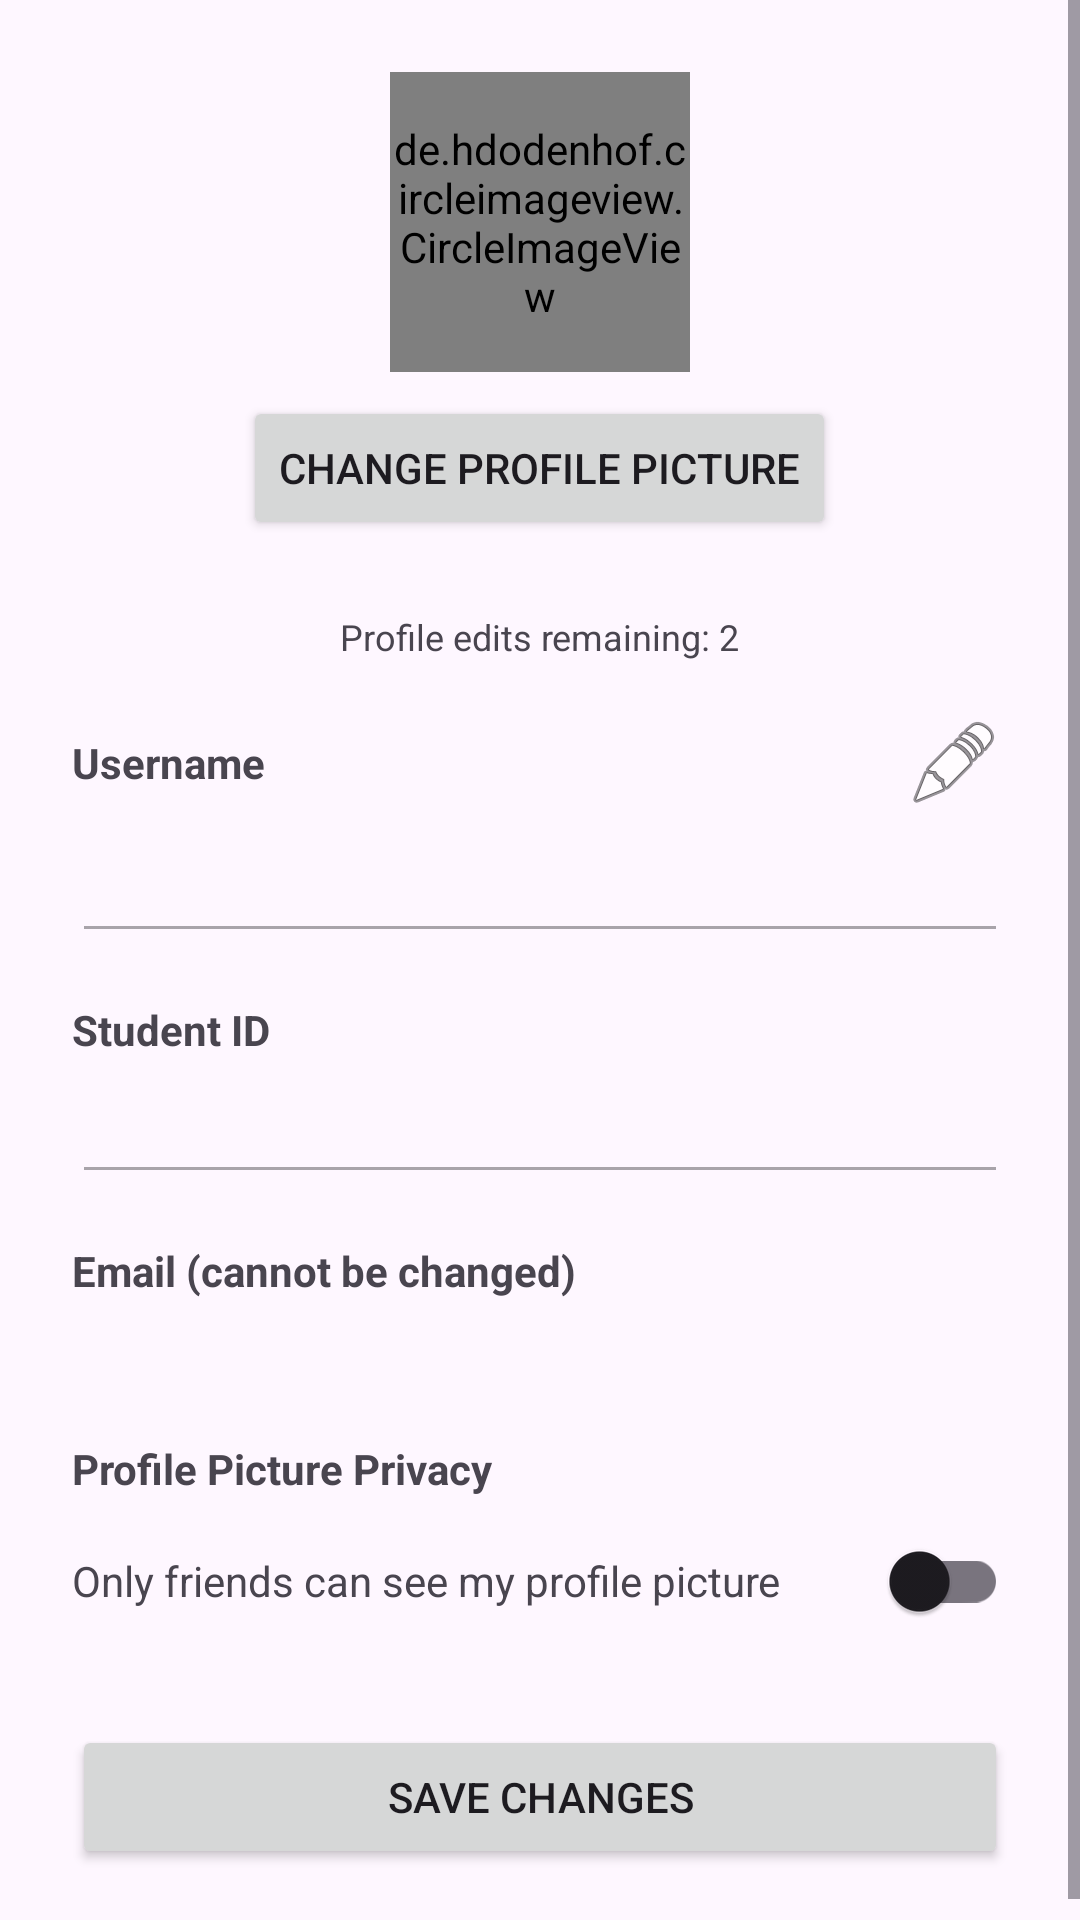

Point at icon controls on the screen. Image size 1080×1920, points as (x=x, y=y).
Edit profile: (x=953, y=762)
